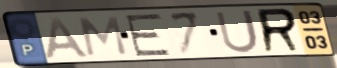7: (168, 9, 202, 57)
A: (44, 16, 93, 60)
E: (123, 12, 174, 58)
M: (76, 15, 130, 58)
R: (255, 7, 304, 55)
U: (213, 8, 262, 55)
